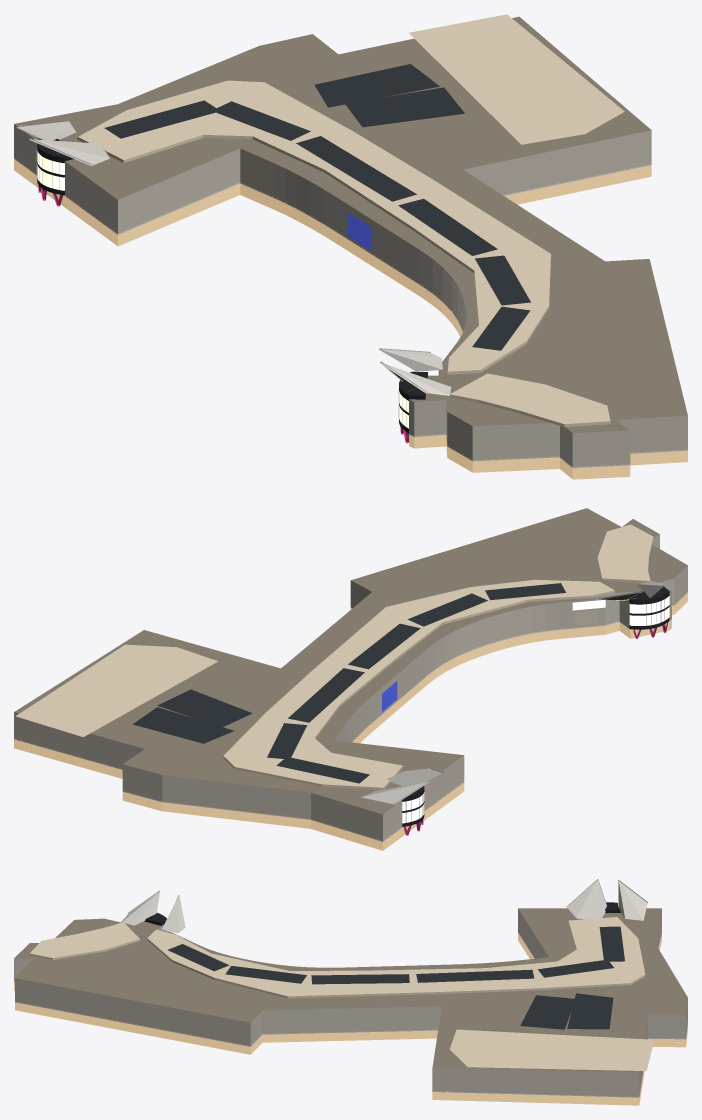
File: packages_mall.glb
The picture shows the model from 3 angles, top to bottom: view 1: azimuth 30°, elevation 25°; view 2: azimuth 150°, elevation 25°; view 3: azimuth 270°, elevation 25°; orthographic projection. The views are drawn at different scales.
Visible parts, largest first — view 1: m_roof_service, m_roof_cream, m_cladding, m_solar_panels, m_shopfront_band, m_blade_top, m_soffit, m_drum_band, m_drum_glass; view 2: m_roof_service, m_roof_cream, m_cladding, m_solar_panels, m_shopfront_band, m_blade_top, m_drum_glass, m_soffit, m_drum_band; view 3: m_roof_service, m_roof_cream, m_cladding, m_solar_panels, m_shopfront_band, m_blade_top, m_soffit.
Part boxes in pixels (x1,y1,x2,y2): m_roof_service: (14,16,687,432); m_roof_cream: (77,14,624,426); m_cladding: (14,124,687,466); m_solar_panels: (104,64,530,350); m_shopfront_band: (14,159,687,479); m_blade_top: (16,121,451,395); m_soffit: (14,149,687,467); m_drum_band: (37,138,427,432); m_drum_glass: (37,151,408,428); m_roof_service: (14,508,687,814); m_roof_cream: (16,524,653,789); m_cladding: (14,534,687,840); m_solar_panels: (133,583,565,783); m_shopfront_band: (14,593,687,850); m_blade_top: (361,581,664,804); m_drum_glass: (402,596,669,823); m_soffit: (14,592,687,841); m_drum_band: (402,587,669,826); m_roof_service: (14,908,687,1073); m_roof_cream: (29,917,654,1070); m_cladding: (14,908,687,1096); m_solar_panels: (168,926,624,1029); m_shopfront_band: (14,933,687,1105); m_blade_top: (122,879,647,933); m_soffit: (14,932,687,1097).
Bounding box in the file's own units: 217 × 29.39 × 351.
